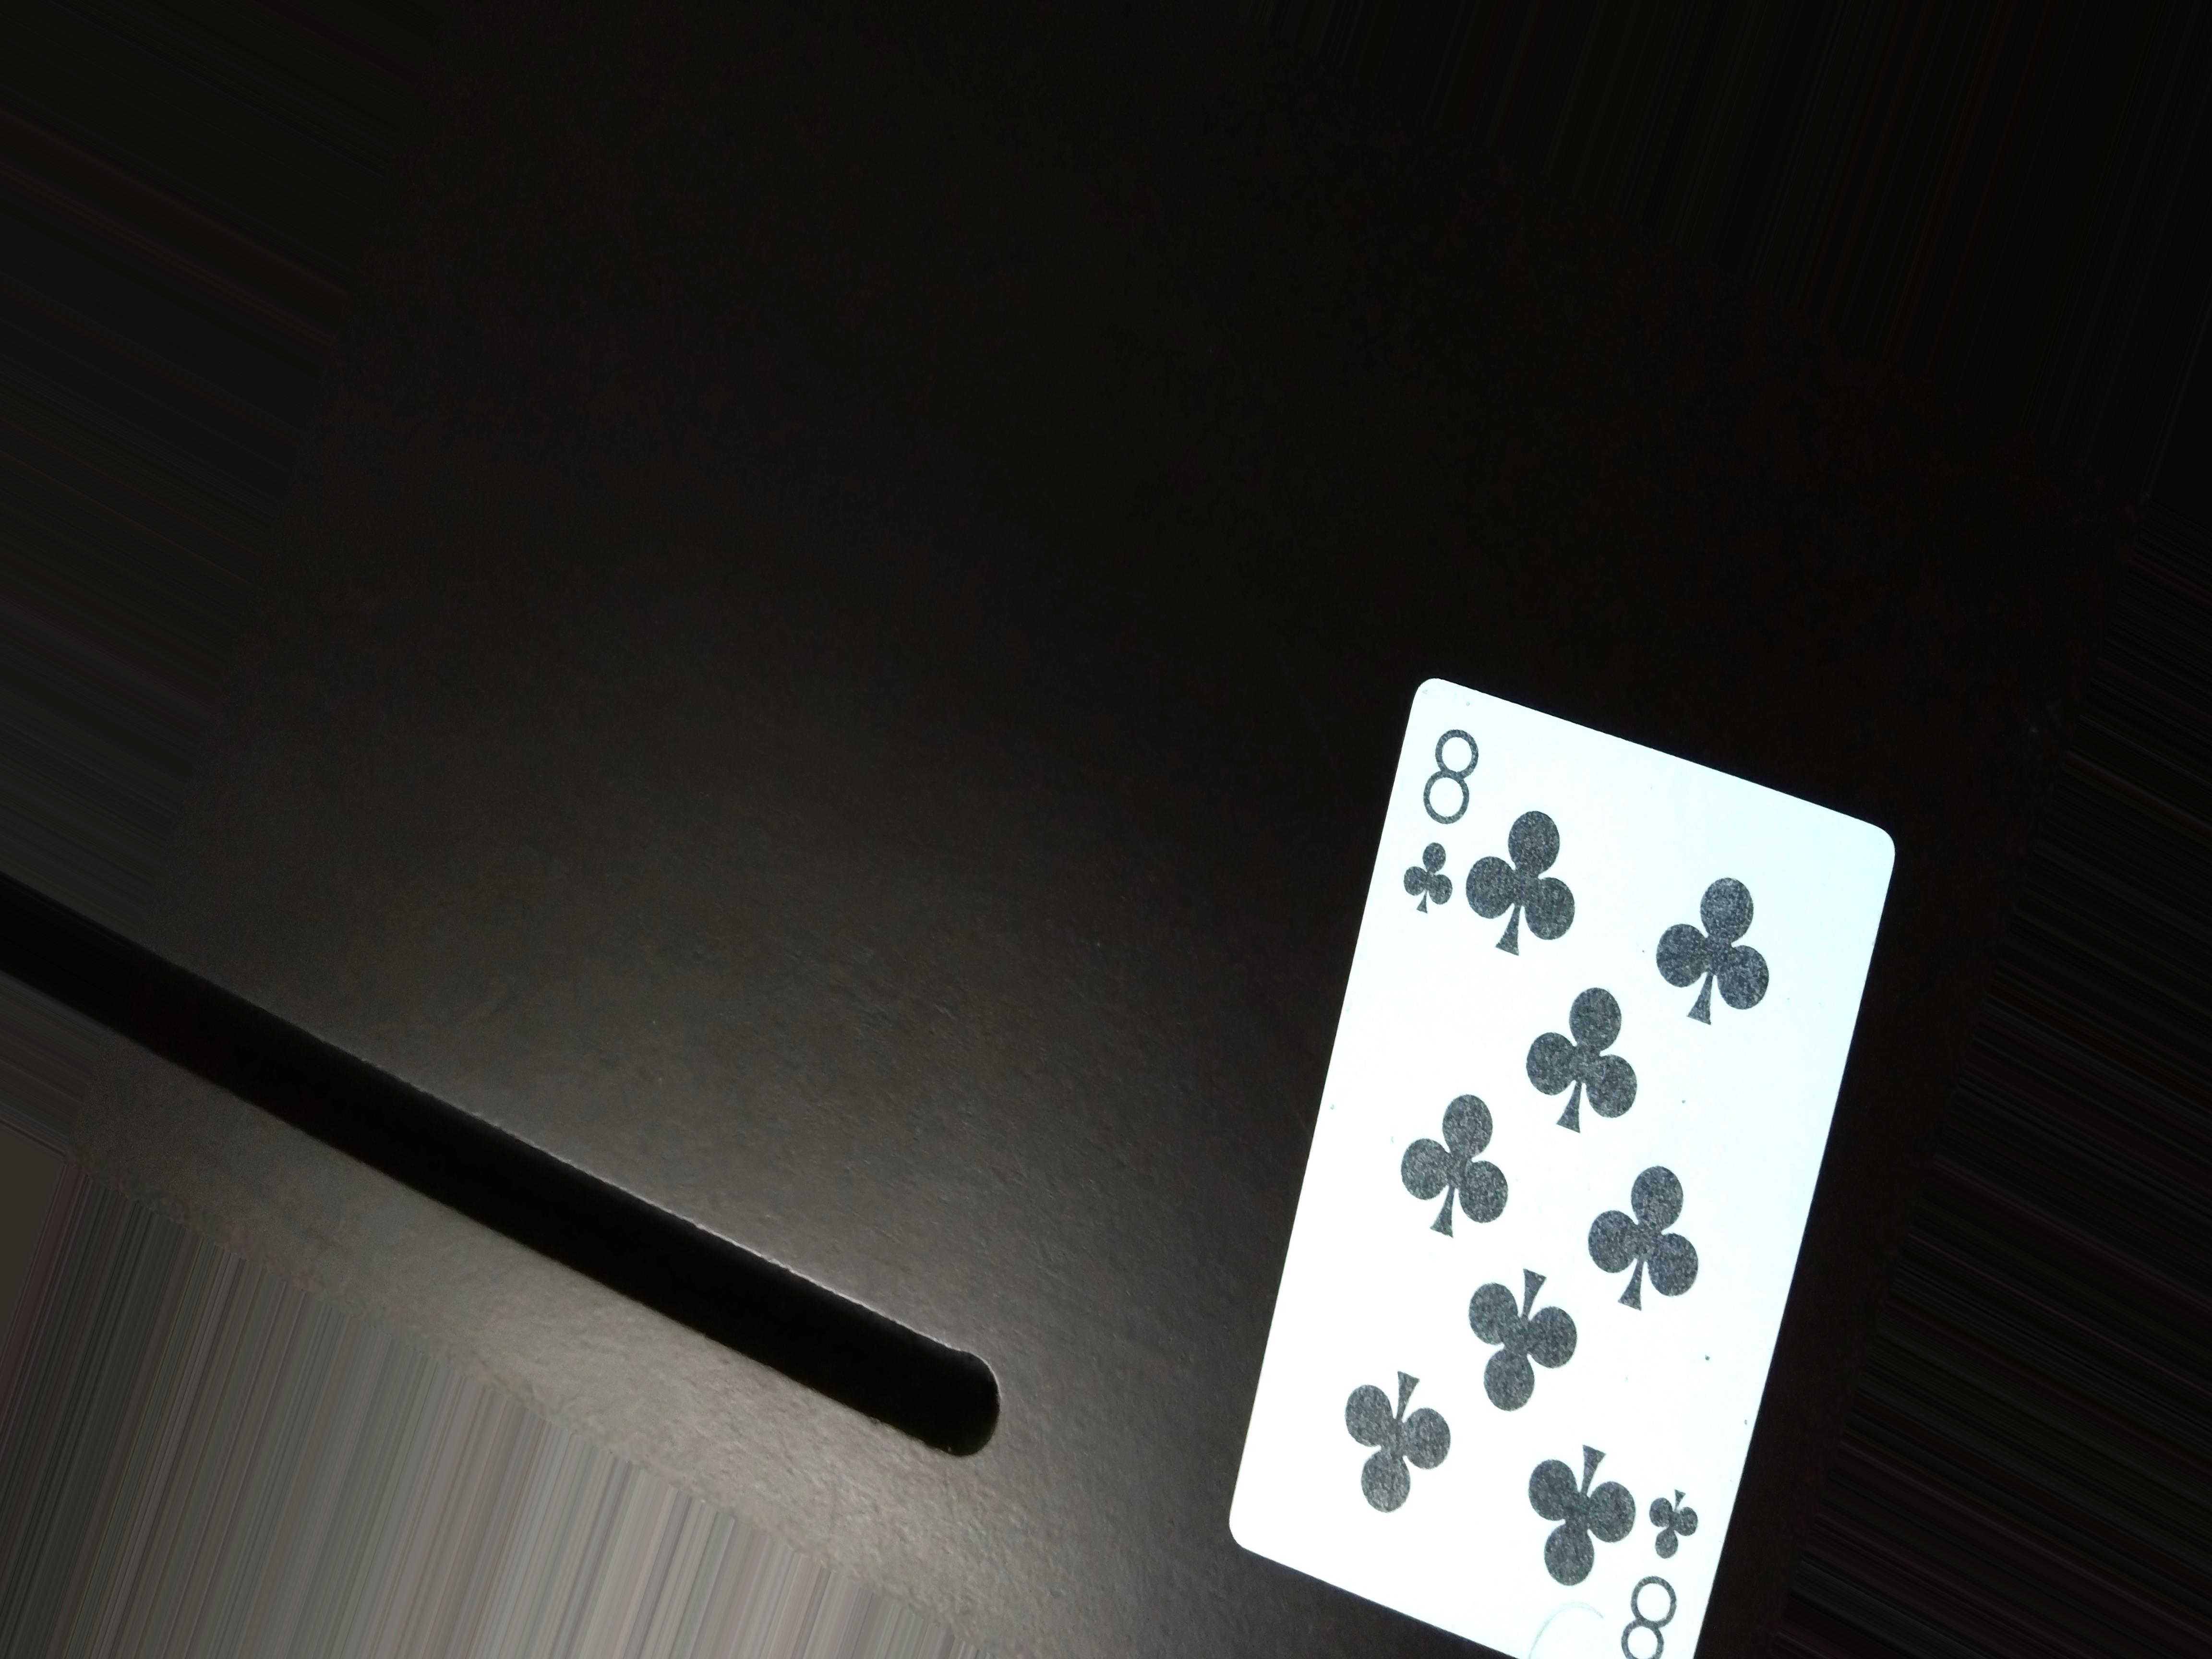8C: (1393, 685, 1477, 931)
